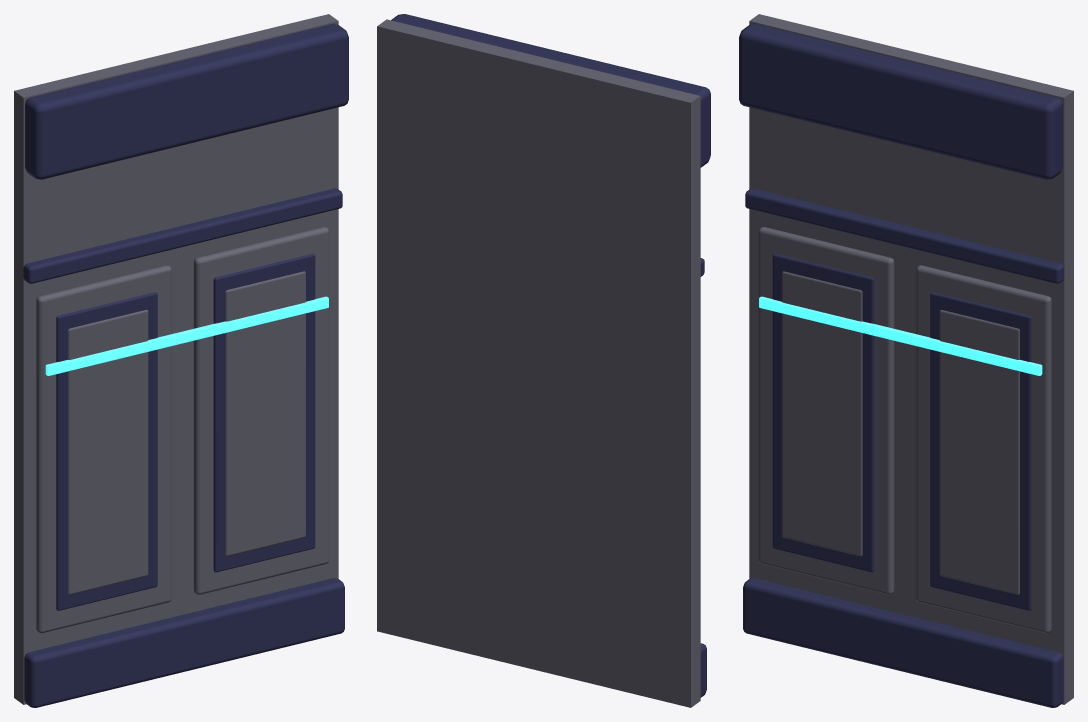
File: int.wallpanel.cockpit.w0.95.s0.i1.glb
The picture shows the model from 3 angles, left to right: view 1: azimuth 30°, elevation 25°; view 2: azimuth 150°, elevation 25°; view 3: azimuth 330°, elevation 25°; orthographic projection.
Parts seen in each view (by area): view 1: int.wallpanel.cockpit.w0.95.s0.i1; view 2: int.wallpanel.cockpit.w0.95.s0.i1; view 3: int.wallpanel.cockpit.w0.95.s0.i1.
Part boxes in pixels (left/top/right/bottom): int.wallpanel.cockpit.w0.95.s0.i1: left=14, top=14, right=348, bottom=707; int.wallpanel.cockpit.w0.95.s0.i1: left=377, top=14, right=710, bottom=707; int.wallpanel.cockpit.w0.95.s0.i1: left=739, top=14, right=1073, bottom=707.
Bounding box in the file's own units: 0.95 × 1.75 × 0.12.
